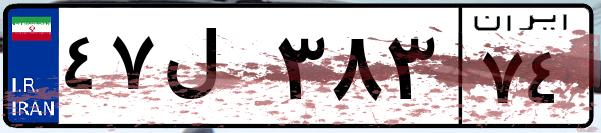3: (270, 28, 330, 110), (385, 28, 445, 110)
4: (57, 26, 110, 100), (525, 38, 570, 115)
7: (475, 38, 525, 113), (110, 28, 158, 98)
8: (330, 28, 385, 110)
ل: (158, 20, 270, 120)
